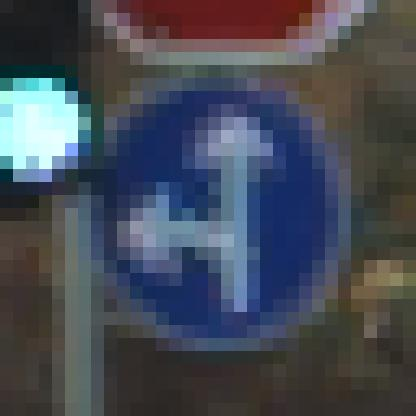Straight or Left: (66, 66, 352, 352)
